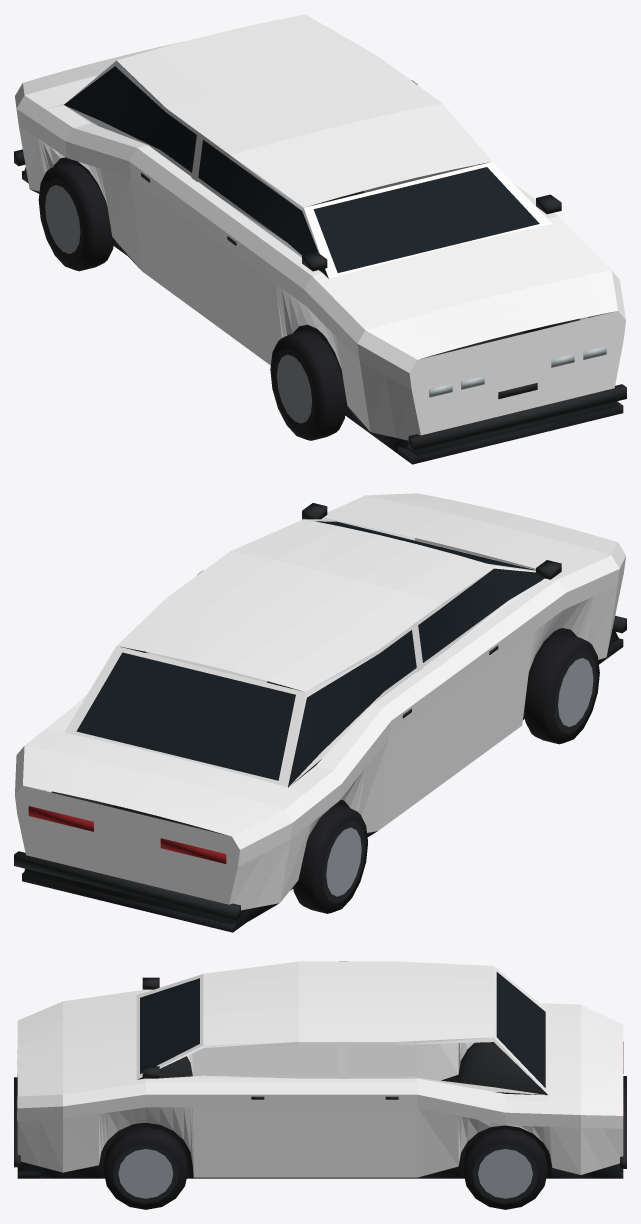
The model's file is halberton_casarao.glb.
3 views of the same model, one above another, from view 1: azimuth 30°, elevation 25°; view 2: azimuth 150°, elevation 25°; view 3: azimuth 270°, elevation 25° (orthographic). The views are drawn at different scales.
Parts seen in each view (by area): view 1: Body_Paint, Body_Details, Mount_FrontLeft_Wheel_Details, Mount_RearLeft_Wheel_Details; view 2: Body_Paint, Body_Details, Mount_FrontLeft_Wheel_Details, Mount_RearLeft_Wheel_Details; view 3: Body_Paint, Body_Details, Mount_FrontRight_Wheel_Details, Mount_RearRight_Wheel_Details.
Part boxes in pixels (x1,y1,x2,y2): Body_Paint: (15, 14, 625, 440); Body_Details: (14, 66, 626, 464); Mount_FrontLeft_Wheel_Details: (270, 330, 346, 440); Mount_RearLeft_Wheel_Details: (38, 162, 114, 271); Body_Paint: (15, 493, 625, 910); Body_Details: (14, 503, 626, 932); Mount_FrontLeft_Wheel_Details: (524, 634, 599, 744); Mount_RearLeft_Wheel_Details: (293, 804, 367, 913); Body_Paint: (17, 961, 623, 1177); Body_Details: (14, 972, 626, 1178); Mount_FrontRight_Wheel_Details: (103, 1127, 188, 1209); Mount_RearRight_Wheel_Details: (463, 1129, 547, 1209).
Size of the model in its own units: 1.93 by 1.35 by 4.7.
2 materials, 1 textured.
